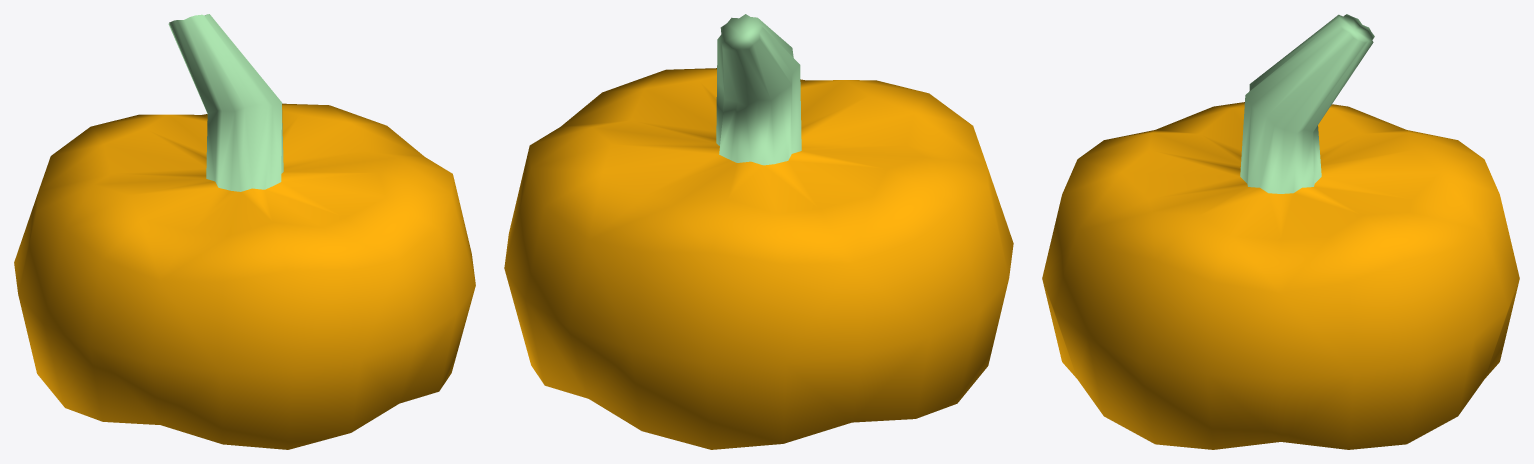
The model's file is CalabazaBase.fbx.
3 renders of one model, left to right at view 1: azimuth 30°, elevation 25°; view 2: azimuth 150°, elevation 25°; view 3: azimuth 270°, elevation 25°, orthographic. The views are drawn at different scales.
Parts seen in each view (by area): view 1: pCylinder49; view 2: pCylinder49; view 3: pCylinder49.
Part boxes in pixels (x1,y1,x2,y2): pCylinder49: (14, 14, 475, 449); pCylinder49: (504, 14, 1013, 449); pCylinder49: (1042, 14, 1519, 449).
Bounding box in the file's own units: 39.94 × 33.17 × 39.89.
